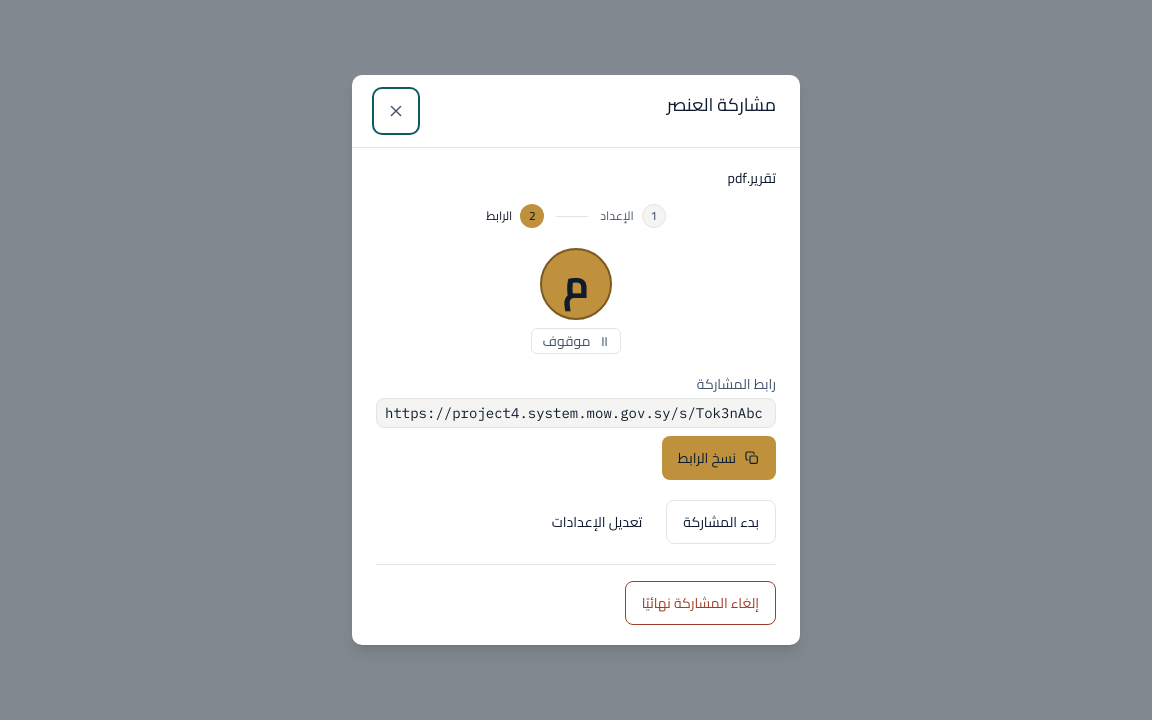
Scenario: ShareModal — restart-on-expired reports the SERVER status (§3.3) › starting a non-expired stopped share DOES report "started"
Click the button "بدء المشاركة". click: (721, 522)
box: [666,500,776,544]
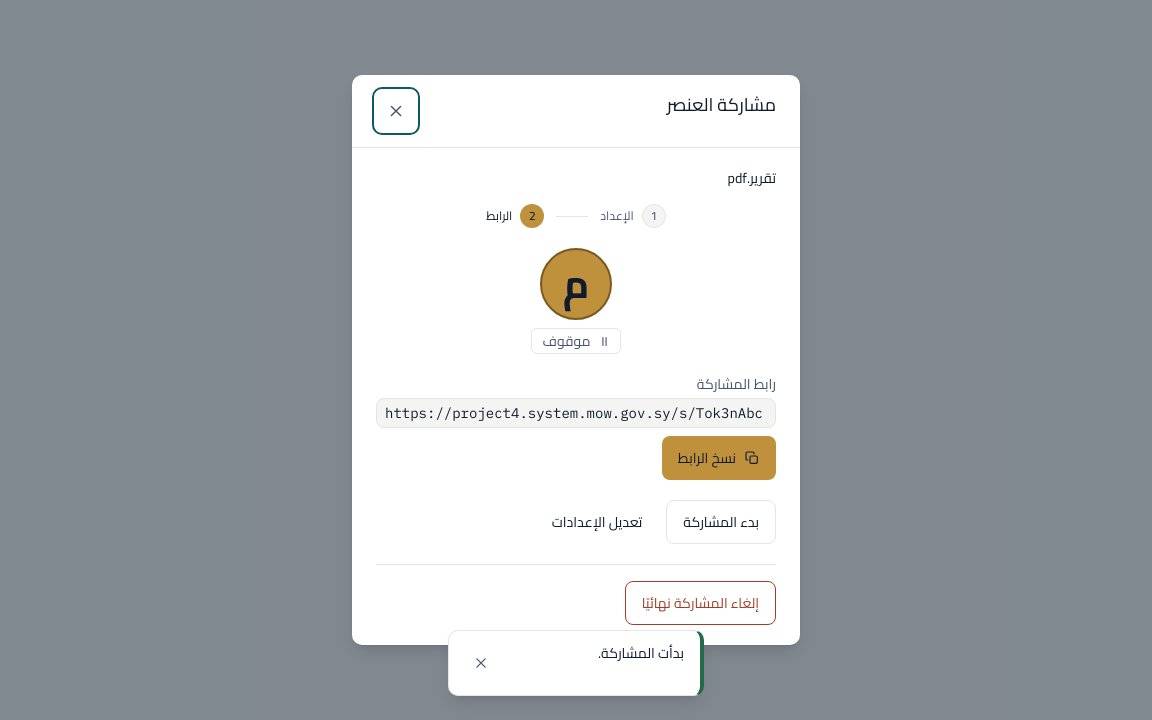
Expected: the text "بدأت المشاركة." is shown, [598,640,684,666]
